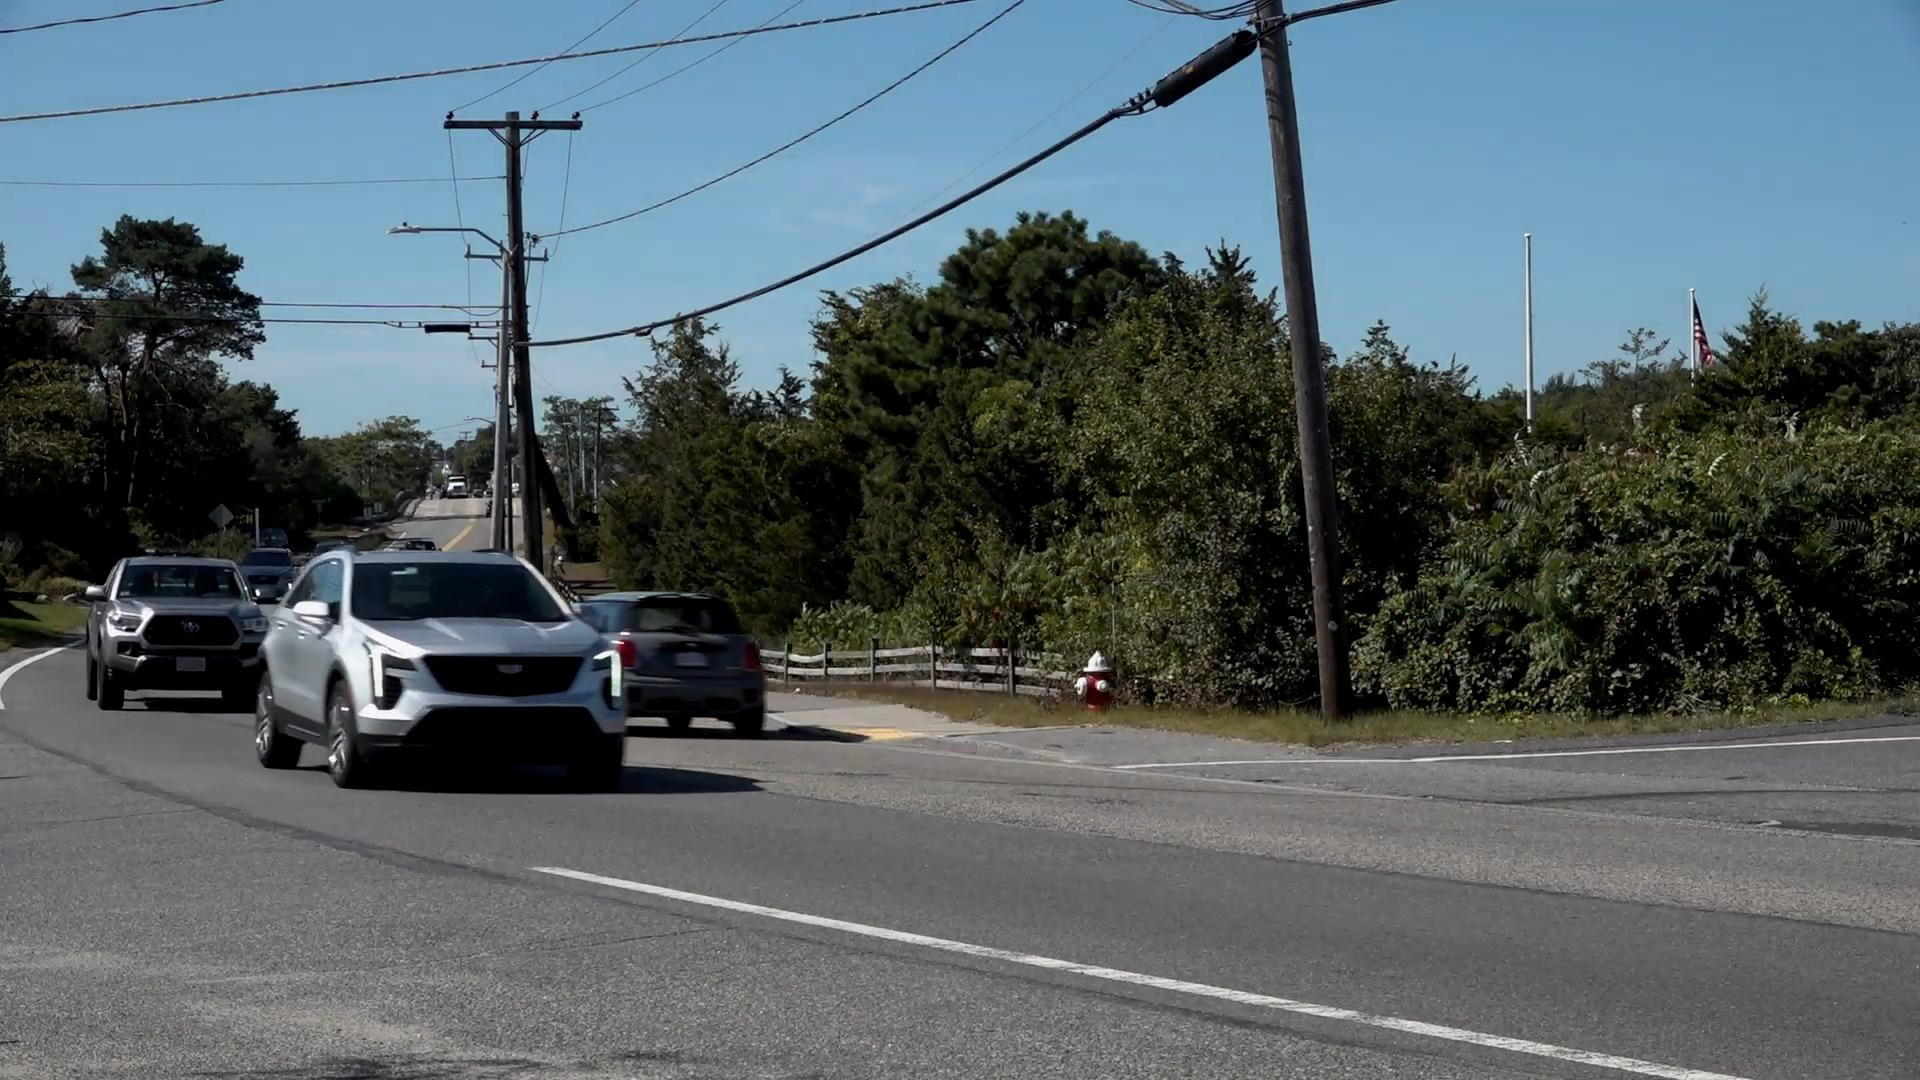suv: (261, 542, 625, 791), (582, 583, 765, 731)
